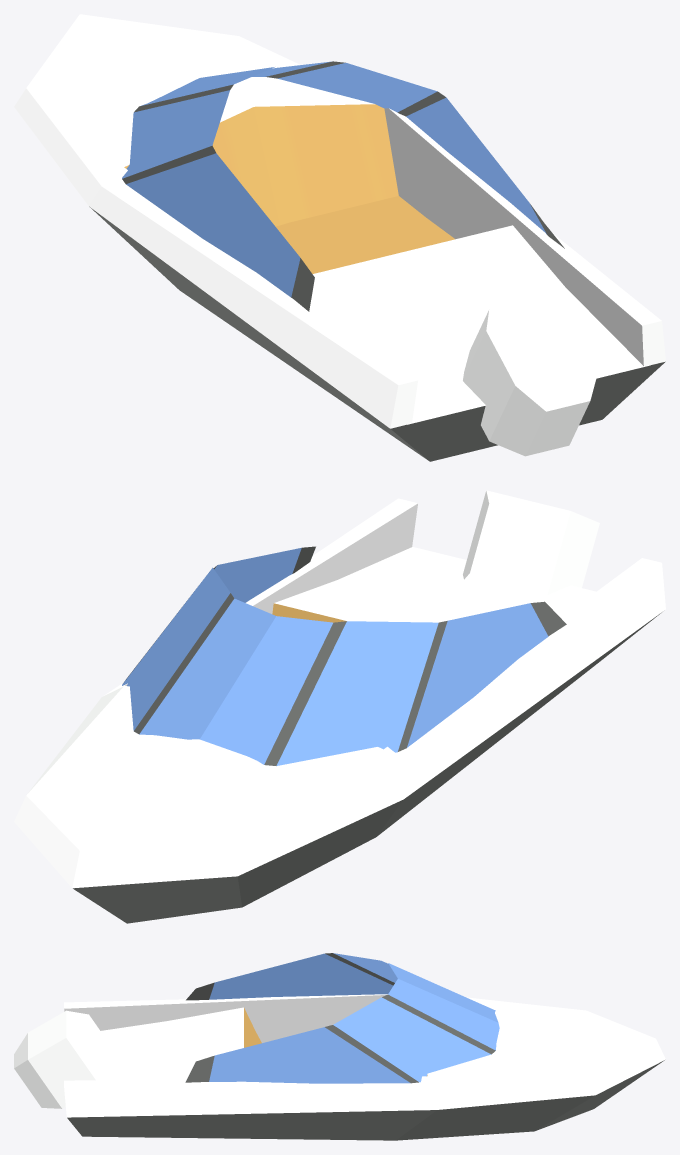
Rendered from transport_water.006.glb.
3 views of the same model, one above another, from view 1: azimuth 30°, elevation 25°; view 2: azimuth 150°, elevation 25°; view 3: azimuth 270°, elevation 25° (orthographic). The views are drawn at different scales.
Visible parts, largest first — view 1: transport_water.006(Clone); view 2: transport_water.006(Clone); view 3: transport_water.006(Clone).
Part boxes in pixels (x1=…): transport_water.006(Clone): x1=14, y1=14, x2=665, y2=461; transport_water.006(Clone): x1=14, y1=490, x2=665, y2=923; transport_water.006(Clone): x1=14, y1=953, x2=665, y2=1140.
Bounding box in the file's own units: 2.06 × 1.24 × 5.61.
1 material, 1 textured.
